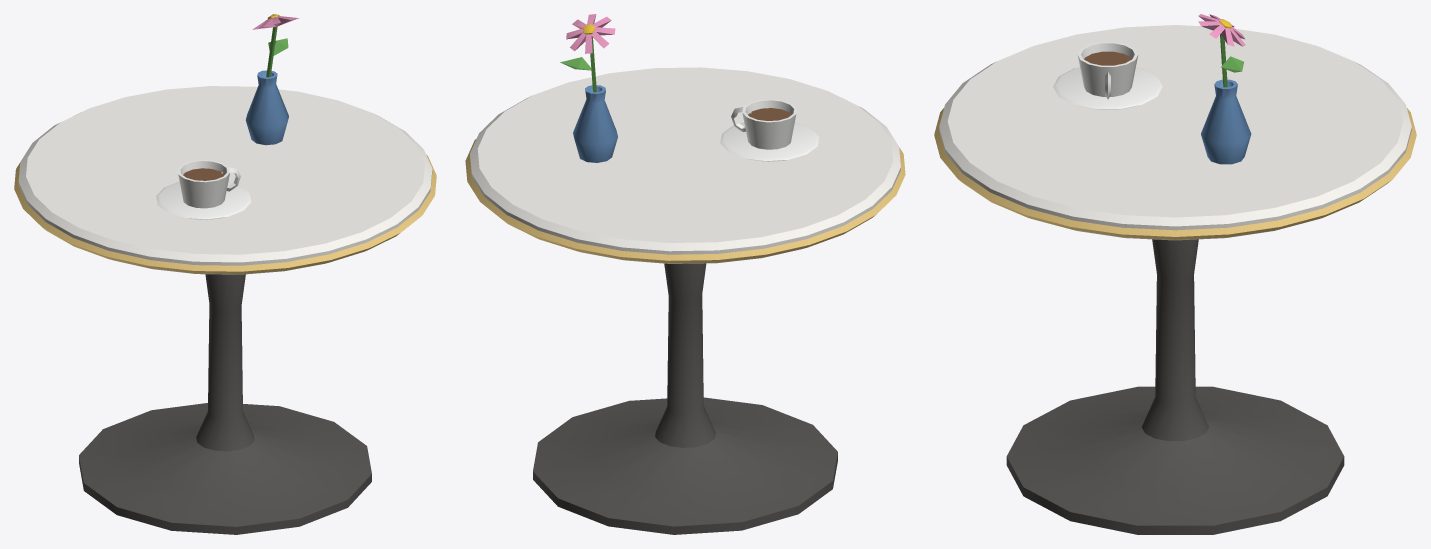
File: furn_cafe_table.glb
3 views of the same model, side by side, from view 1: azimuth 30°, elevation 25°; view 2: azimuth 150°, elevation 25°; view 3: azimuth 270°, elevation 25° (orthographic). The views are drawn at different scales.
Visible parts, largest first — view 1: furn_cafe_table_body; view 2: furn_cafe_table_body; view 3: furn_cafe_table_body.
Boxes of the visible parts, x1=… form: furn_cafe_table_body: x1=14, y1=14, x2=436, y2=534; furn_cafe_table_body: x1=465, y1=14, x2=905, y2=534; furn_cafe_table_body: x1=934, y1=14, x2=1416, y2=534.
Size of the model in its own units: 0.572 by 0.6354 by 0.572.
